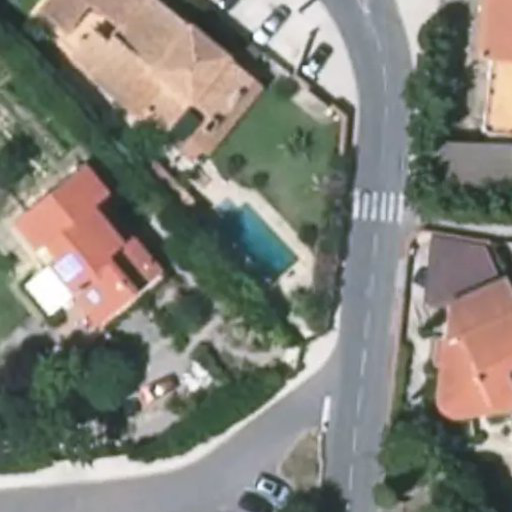pool: (212, 201, 302, 287)
